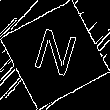N_S: (28, 25, 82, 85)
